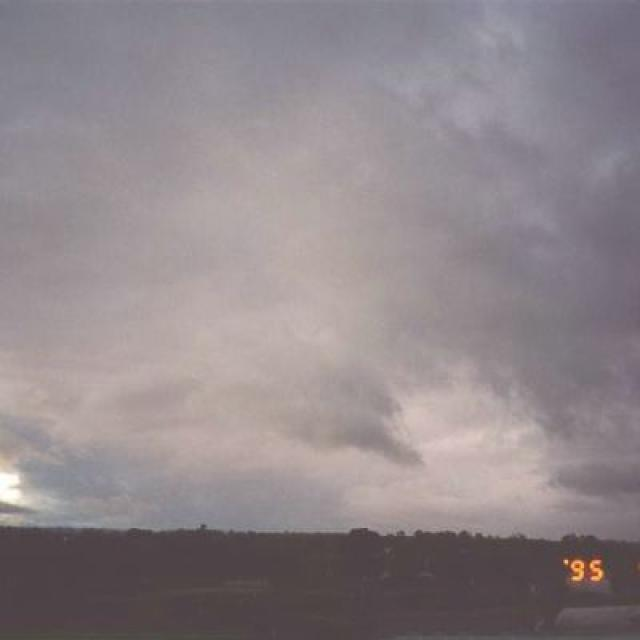St: (2, 21, 640, 506)
